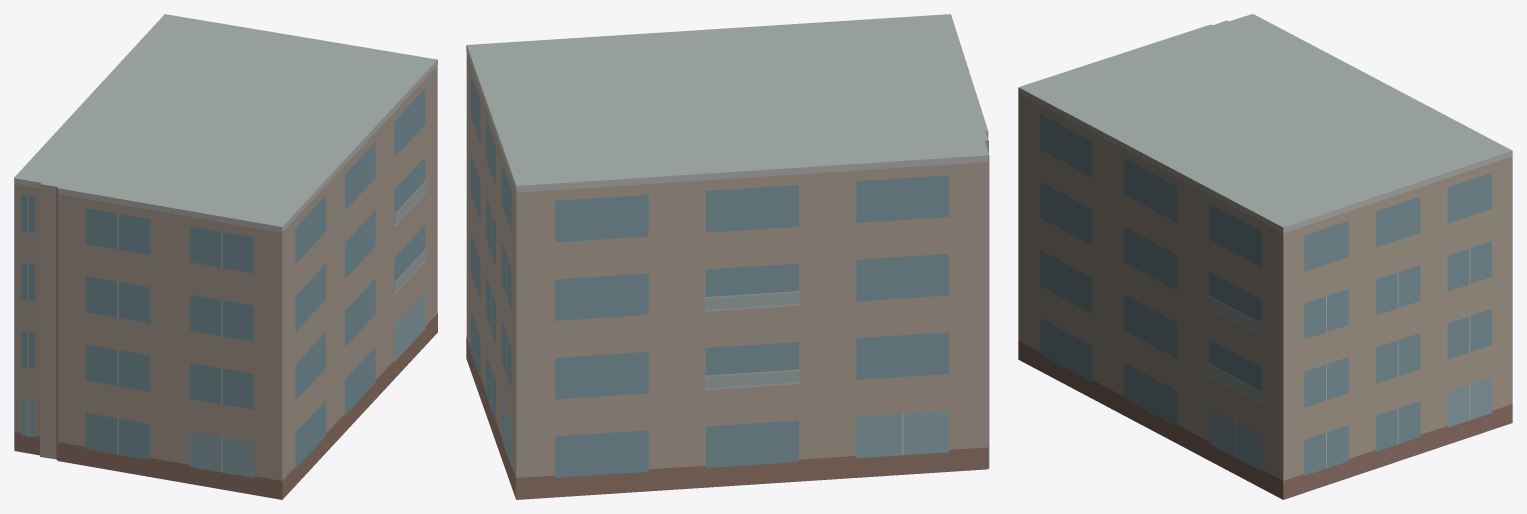
File: survey-upis-32814705.glb
3 views of the same model, side by side, from view 1: azimuth 30°, elevation 25°; view 2: azimuth 150°, elevation 25°; view 3: azimuth 270°, elevation 25° (orthographic). The views are drawn at different scales.
Parts seen in each view (by area): view 1: survey-upis-32814705.tmp; view 2: survey-upis-32814705.tmp; view 3: survey-upis-32814705.tmp.
Part boxes in pixels (<box>): survey-upis-32814705.tmp: <box>14,14,437,499</box>; survey-upis-32814705.tmp: <box>466,14,989,499</box>; survey-upis-32814705.tmp: <box>1018,14,1512,499</box>.
Bounding box in the file's own units: 19.52 × 11.6 × 19.09.
